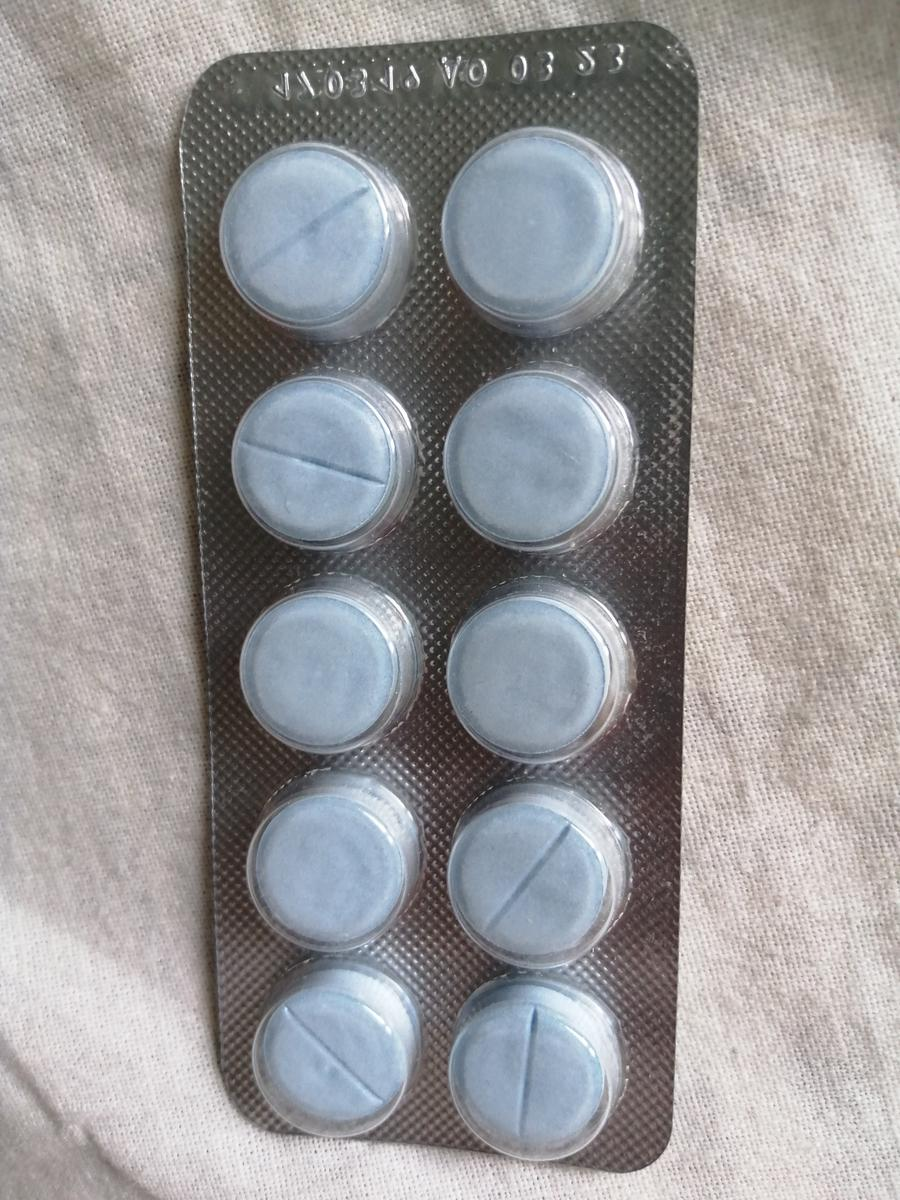tablet: (436, 130, 636, 333), (219, 142, 406, 331), (442, 363, 630, 549), (228, 375, 412, 549), (239, 788, 410, 951), (443, 590, 607, 757), (442, 999, 612, 1160), (245, 979, 416, 1139), (446, 799, 603, 966), (239, 584, 393, 752)
